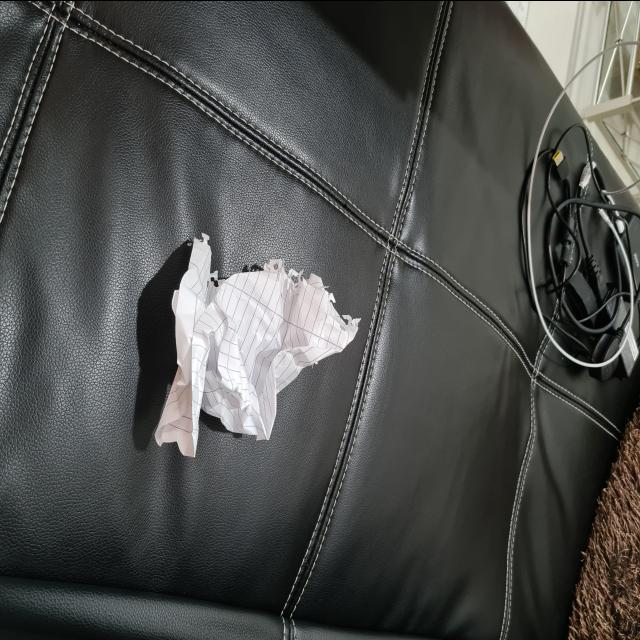kertas: (154, 251, 348, 462)
